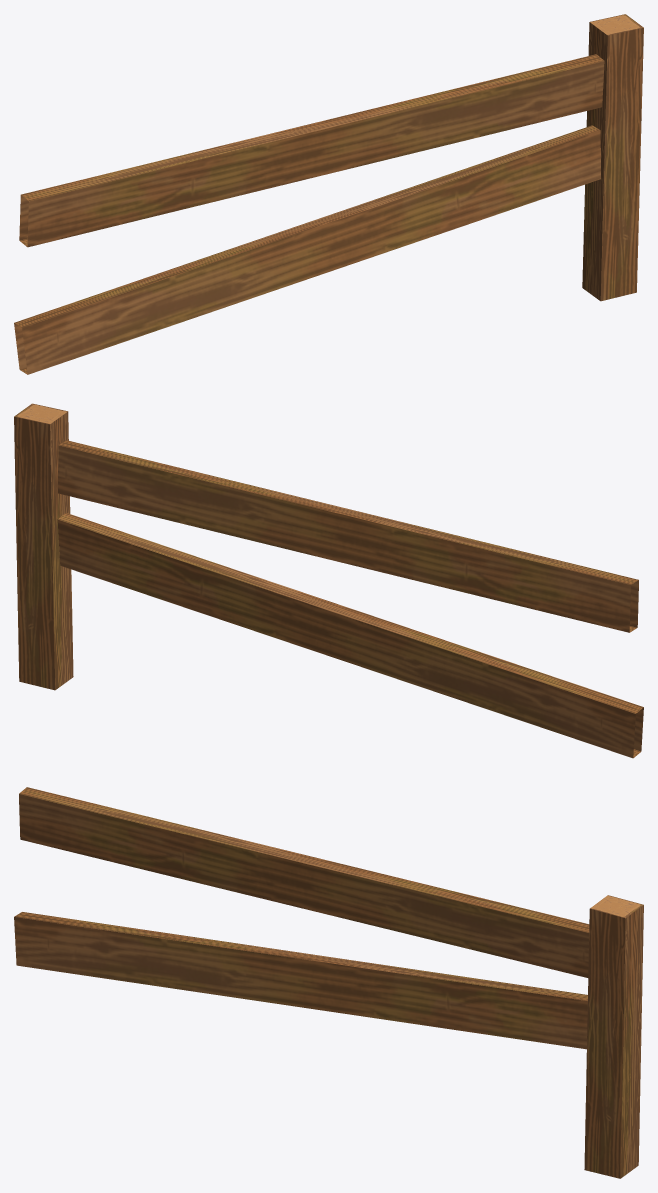
The model's file is Prop_WoodenFence_Extension1.gltf.
The picture shows the model from 3 angles, top to bottom: view 1: azimuth 30°, elevation 25°; view 2: azimuth 150°, elevation 25°; view 3: azimuth 330°, elevation 25°; orthographic projection.
Parts seen in each view (by area): view 1: Prop_WoodenFence_Extension1; view 2: Prop_WoodenFence_Extension1; view 3: Prop_WoodenFence_Extension1.
Part boxes in pixels (bbox=[...]): Prop_WoodenFence_Extension1: bbox=[14, 14, 643, 374]; Prop_WoodenFence_Extension1: bbox=[14, 403, 643, 758]; Prop_WoodenFence_Extension1: bbox=[14, 787, 643, 1178].
Bounding box in the file's own units: 2.05 × 0.8381 × 0.1104.
1 material, 1 textured.
